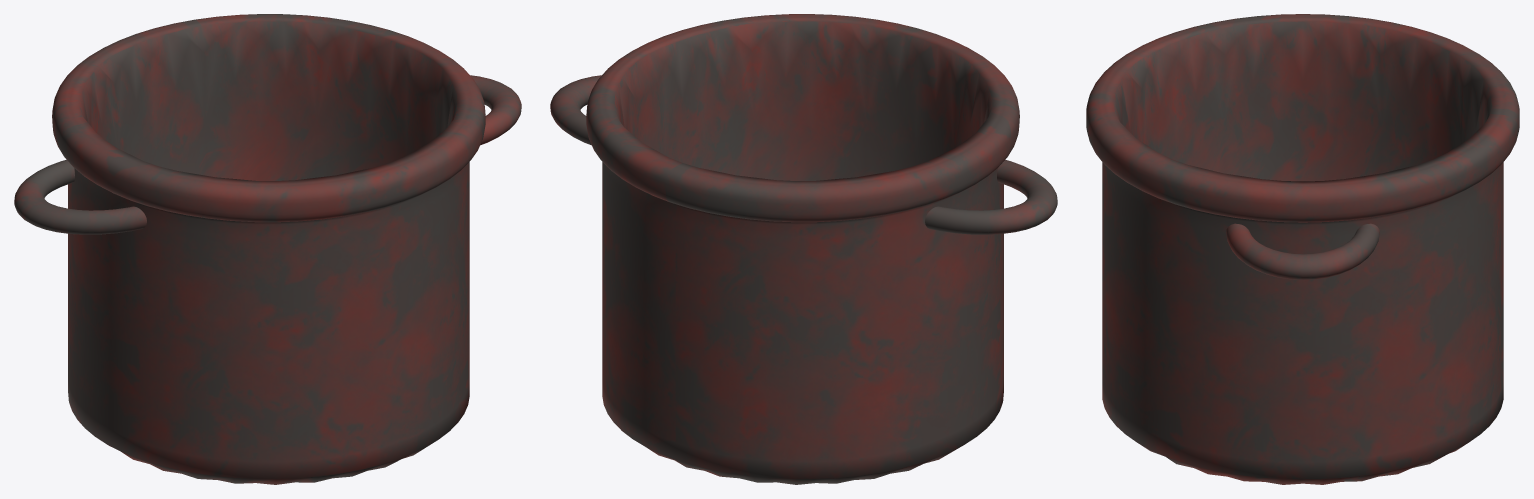
The model's file is pot.fbx.
3 renders of one model, left to right at view 1: azimuth 30°, elevation 25°; view 2: azimuth 150°, elevation 25°; view 3: azimuth 270°, elevation 25°, orthographic.
Parts seen in each view (by area): view 1: Pot:polySurface1, Pot:pTorus1, Pot:pTorus2; view 2: Pot:polySurface1, Pot:pTorus1, Pot:pTorus2; view 3: Pot:polySurface1, Pot:pTorus2.
Part boxes in pixels (bbox=[...]): Pot:polySurface1: bbox=[52, 14, 485, 484]; Pot:pTorus1: bbox=[14, 159, 146, 234]; Pot:pTorus2: bbox=[470, 75, 521, 145]; Pot:polySurface1: bbox=[586, 14, 1019, 484]; Pot:pTorus1: bbox=[925, 159, 1057, 234]; Pot:pTorus2: bbox=[550, 75, 601, 145]; Pot:polySurface1: bbox=[1086, 14, 1519, 484]; Pot:pTorus2: bbox=[1226, 223, 1379, 279].
Size of the model in its own units: 23.54 by 14.21 by 17.95.
1 material, 1 textured.
